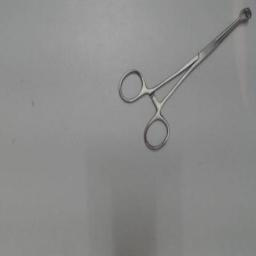Babcock Tissue Forceps: (116, 4, 254, 154)
